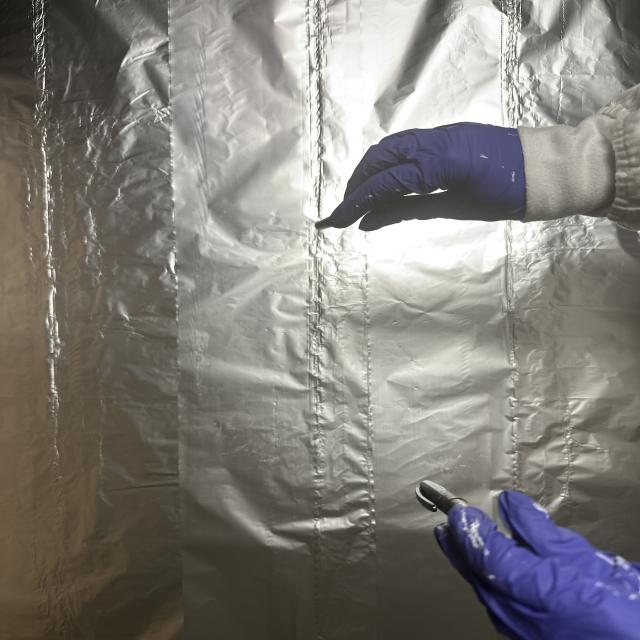gloves_contaminated: (434, 491, 640, 640), (330, 123, 526, 230)
